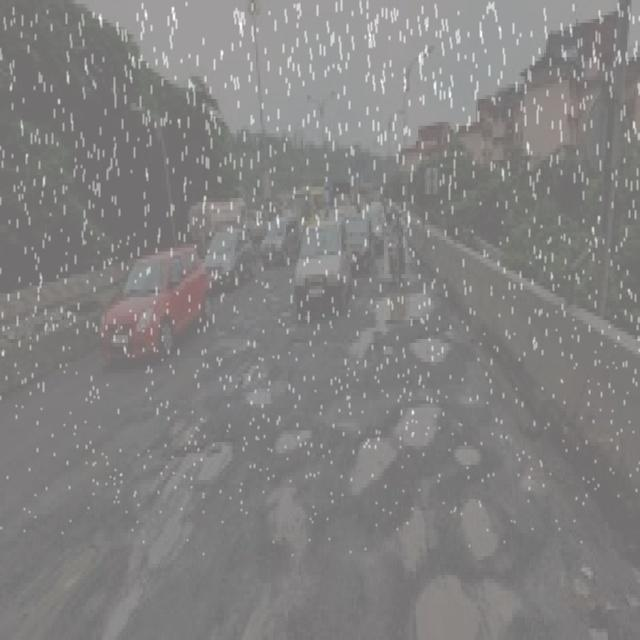Pothole: (0, 431, 235, 640), (393, 566, 527, 640), (370, 500, 436, 576), (346, 428, 398, 503), (390, 391, 446, 458), (265, 478, 311, 558), (331, 322, 392, 373), (364, 290, 448, 326), (460, 490, 501, 559), (408, 336, 460, 371), (270, 430, 324, 454), (452, 442, 489, 471), (249, 381, 275, 408)
